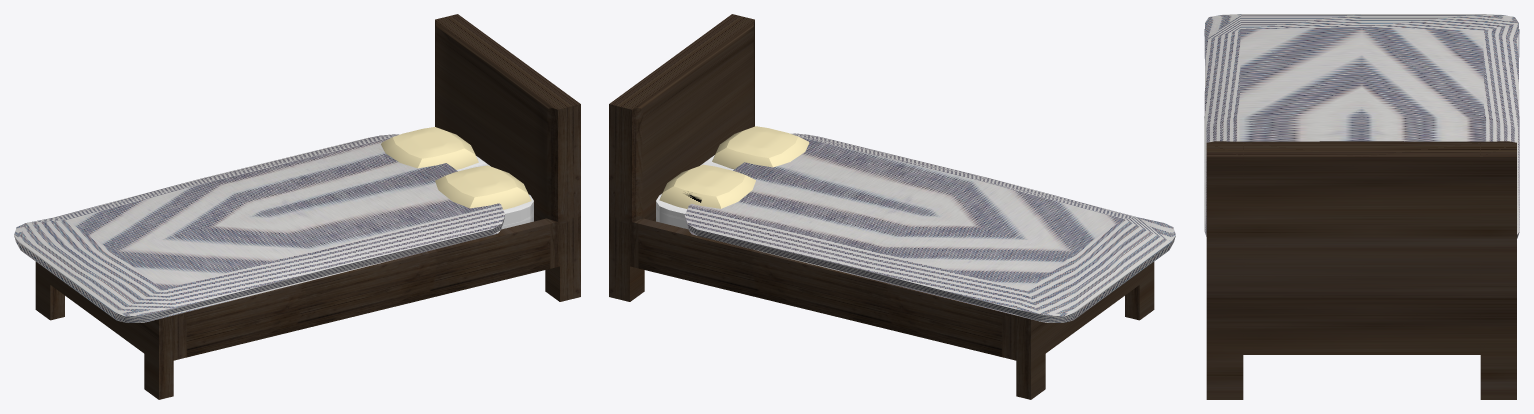
Rendered from bed with textures.fbx.
3 renders of one model, left to right at view 1: azimuth 30°, elevation 25°; view 2: azimuth 150°, elevation 25°; view 3: azimuth 270°, elevation 25°, orthographic. The views are drawn at different scales.
Parts seen in each view (by area): view 1: polySurface3, polySurface1, pCube5, pCube6, polySurface2; view 2: polySurface3, polySurface1, pCube6, pCube5, polySurface2; view 3: polySurface1, polySurface3.
Part boxes in pixels (box(x1,y1,x2,y2)): polySurface3: box(14, 134, 504, 322); polySurface1: box(35, 14, 580, 399); pCube5: box(435, 165, 531, 209); pCube6: box(381, 127, 478, 169); polySurface2: box(456, 156, 533, 229); polySurface3: box(684, 133, 1175, 322); polySurface1: box(609, 14, 1154, 399); pCube6: box(659, 164, 755, 208); pCube5: box(712, 126, 809, 169); polySurface2: box(656, 155, 733, 229); polySurface1: box(1206, 141, 1516, 399); polySurface3: box(1204, 14, 1519, 238).
Bounding box in the file's own units: 10.71 × 4.36 × 5.12.
1 material, 1 textured.
